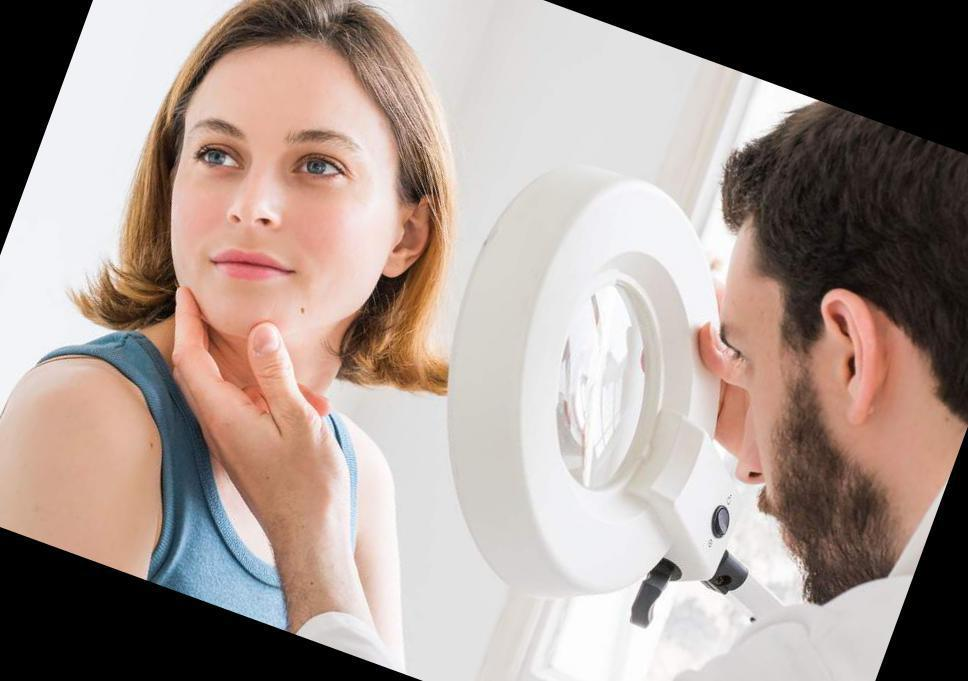Sober: (178, 43, 390, 335)
